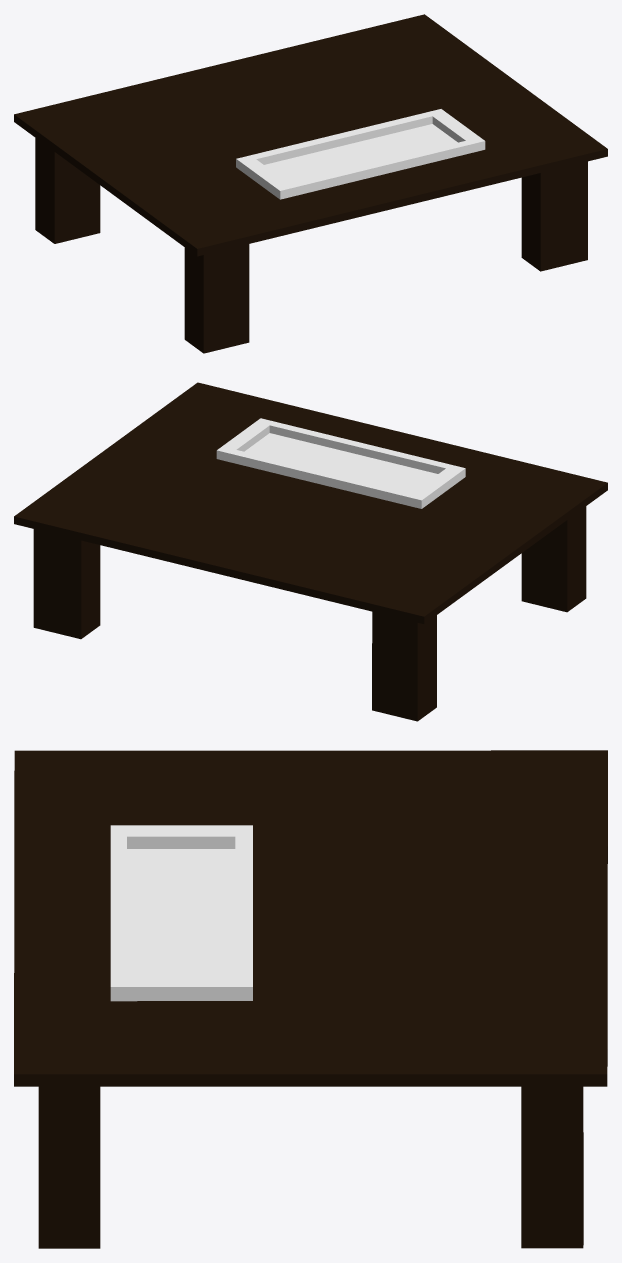
File: livingroom_centretable.fbx
3 views of the same model, one above another, from view 1: azimuth 30°, elevation 25°; view 2: azimuth 150°, elevation 25°; view 3: azimuth 270°, elevation 25° (orthographic). The views are drawn at different scales.
Parts seen in each view (by area): view 1: central_table_, Cube; view 2: central_table_, Cube; view 3: central_table_, Cube.
Boxes of the visible parts, box(x1,y1,x2,y2) form: central_table_: box(14, 14, 607, 353); Cube: box(236, 109, 485, 199); central_table_: box(14, 382, 607, 721); Cube: box(216, 418, 465, 508); central_table_: box(14, 750, 607, 1248); Cube: box(110, 825, 252, 1001).
Bounding box in the file's own units: 149 × 42.42 × 115.
